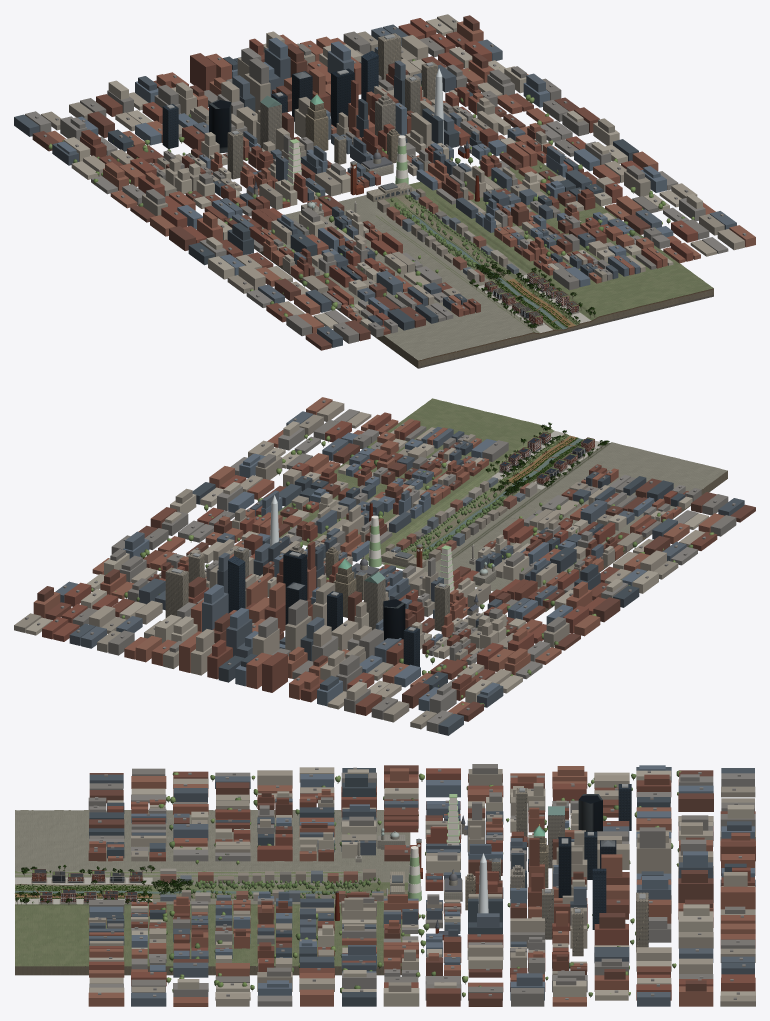
Rendered from jones-falls-2076b.glb.
3 views of the same model, one above another, from view 1: azimuth 30°, elevation 25°; view 2: azimuth 150°, elevation 25°; view 3: azimuth 270°, elevation 25° (orthographic). The views are drawn at different scales.
Parts seen in each view (by area): view 1: fblk_269, ground_0, ground_173, vc:facade_221, vc:curtain_223, part_1, fpen_270, vc:#ffffff|0.75|0_224, vc:ashlar_213, vc:brick_208, ftree_274; view 2: fblk_269, ground_0, ground_173, vc:facade_221, vc:curtain_223, fpen_270, vc:#ffffff|0.75|0_224, vc:ashlar_213, vc:brick_208; view 3: fblk_269, ground_0, ground_173, vc:facade_221, vc:curtain_223, fpen_270, vc:#ffffff|0.75|0_224, vc:ashlar_213, vc:brick_208, part_1, vc:paver_204, ftree_276 (+9 smaller).
Part boxes in pixels (box(x1,y1,x2,y2)): fblk_269: box(14, 14, 755, 350); ground_0: box(358, 245, 713, 360); ground_173: box(262, 159, 643, 304); vc:facade_221: box(227, 33, 437, 179); vc:curtain_223: box(162, 50, 378, 152); part_1: box(359, 288, 713, 368); fpen_270: box(35, 19, 746, 334); vc:#ffffff|0.75|0_224: box(166, 34, 433, 185); vc:ashlar_213: box(301, 150, 411, 216); vc:brick_208: box(484, 272, 578, 324); ftree_274: box(405, 141, 558, 235); fblk_269: box(14, 397, 755, 735); ground_0: box(370, 398, 727, 511); ground_173: box(251, 445, 643, 591); vc:facade_221: box(165, 545, 449, 631); vc:curtain_223: box(228, 550, 419, 666); fpen_270: box(25, 400, 735, 718); vc:#ffffff|0.75|0_224: box(171, 515, 454, 631); vc:ashlar_213: box(360, 545, 496, 585); vc:brick_208: box(499, 432, 594, 484); fblk_269: box(88, 764, 755, 1006); ground_0: box(15, 810, 152, 966); ground_173: box(152, 810, 410, 966); vc:facade_221: box(465, 788, 648, 956); vc:curtain_223: box(558, 784, 631, 929); fpen_270: box(93, 767, 745, 999); vc:#ffffff|0.75|0_224: box(407, 784, 645, 912); vc:ashlar_213: box(355, 831, 462, 901); vc:brick_208: box(32, 869, 142, 902); part_1: box(15, 966, 149, 975); vc:paver_204: box(15, 877, 152, 904); ftree_276: box(271, 809, 448, 889).
Size of what is drawn, in the model's own units: 1268 by 235 by 1727.
Materials: 286 (226 with a texture image).
